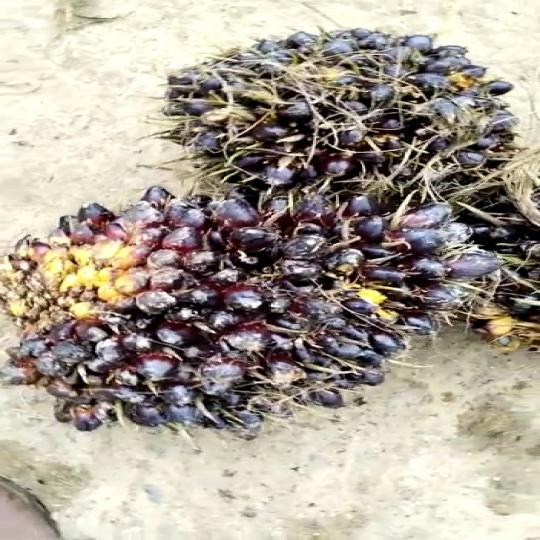mentah: (0, 178, 506, 431), (142, 19, 526, 213)
